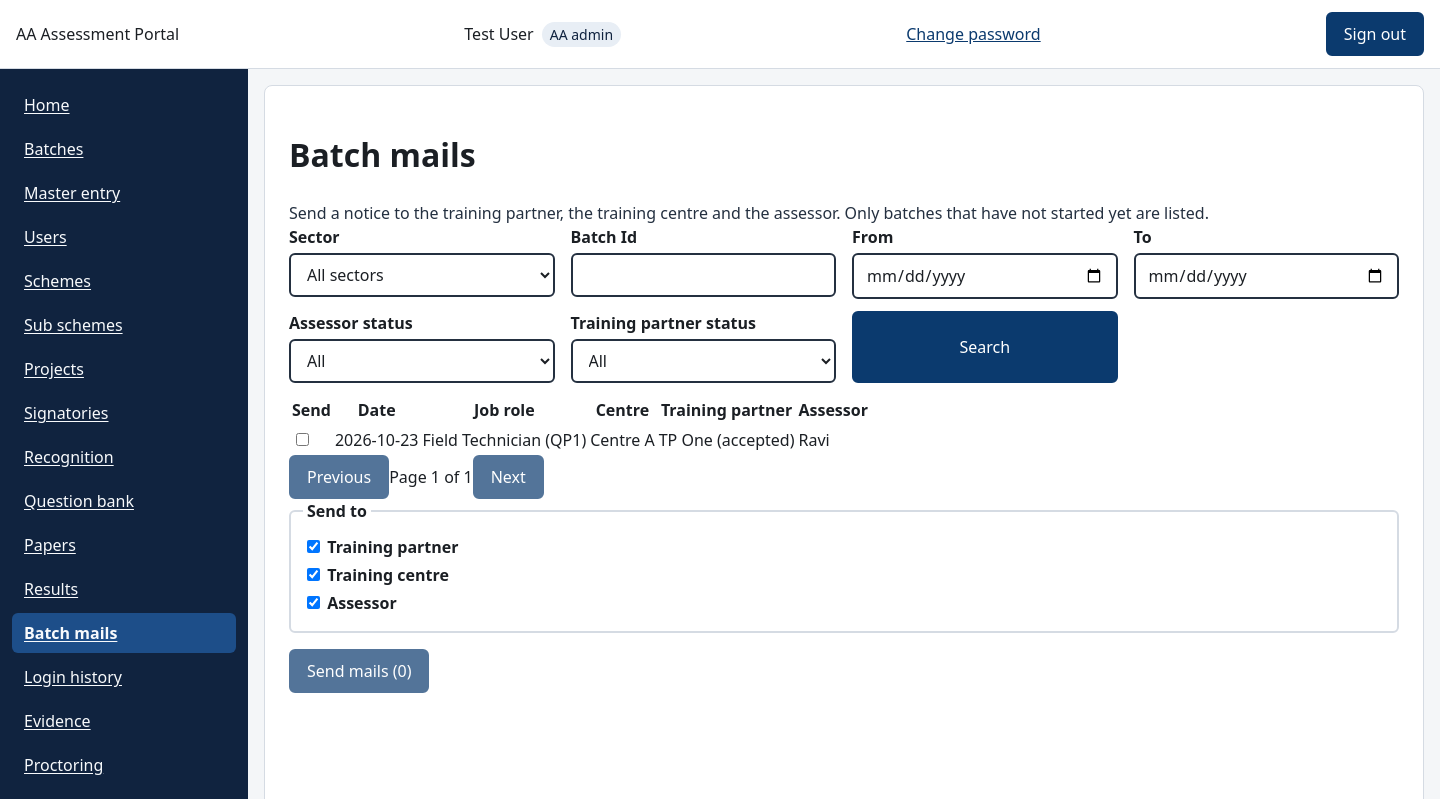
Scenario: searches upcoming batches and queues mails, listing what was skipped
Expected: the heading "Batch mails" is shown, [289,133,476,176]
Click the checkbox named "Select batch b1": [302, 439] box [296,433,309,446]
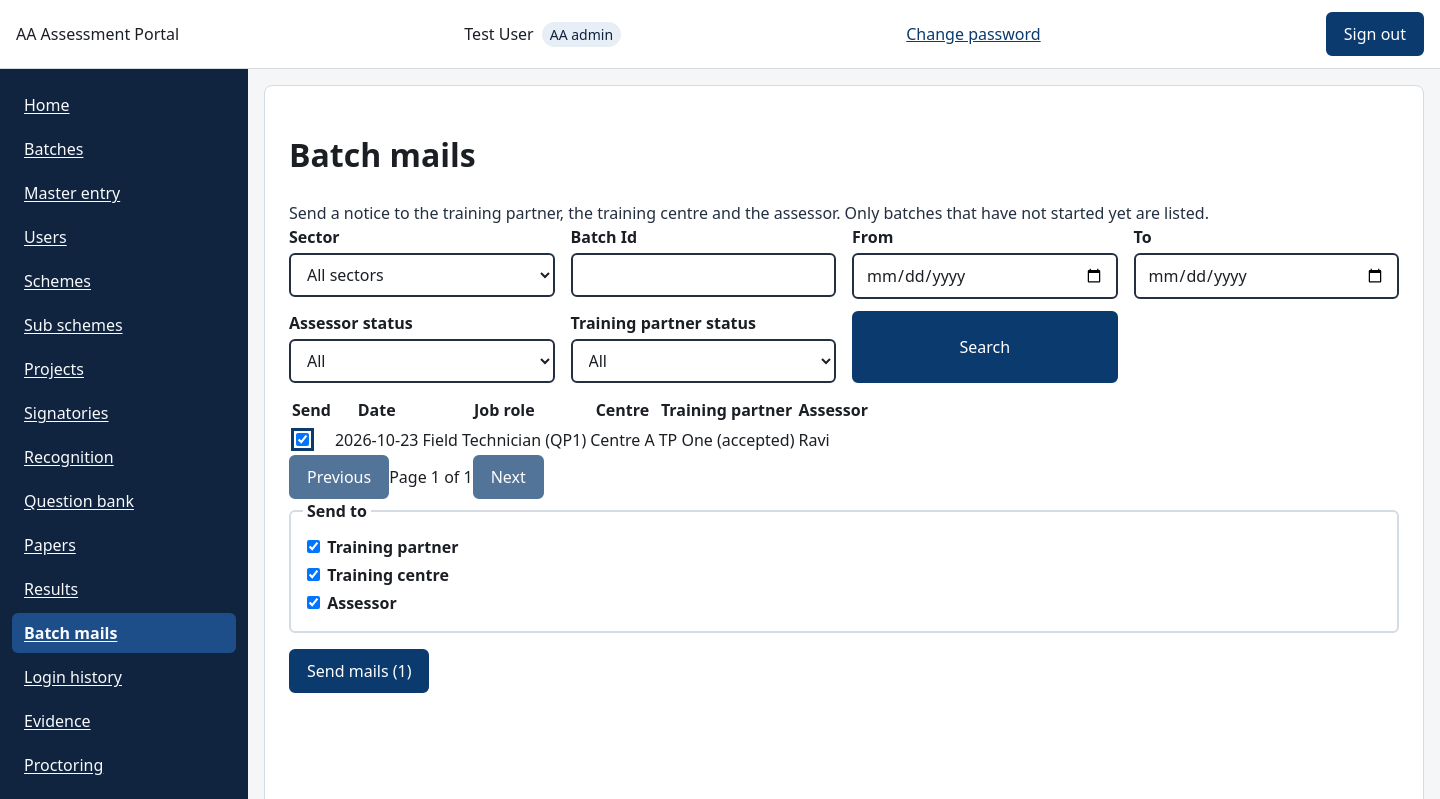
Click the button "Send mails (1)": [359, 671] box [289,649,430,693]
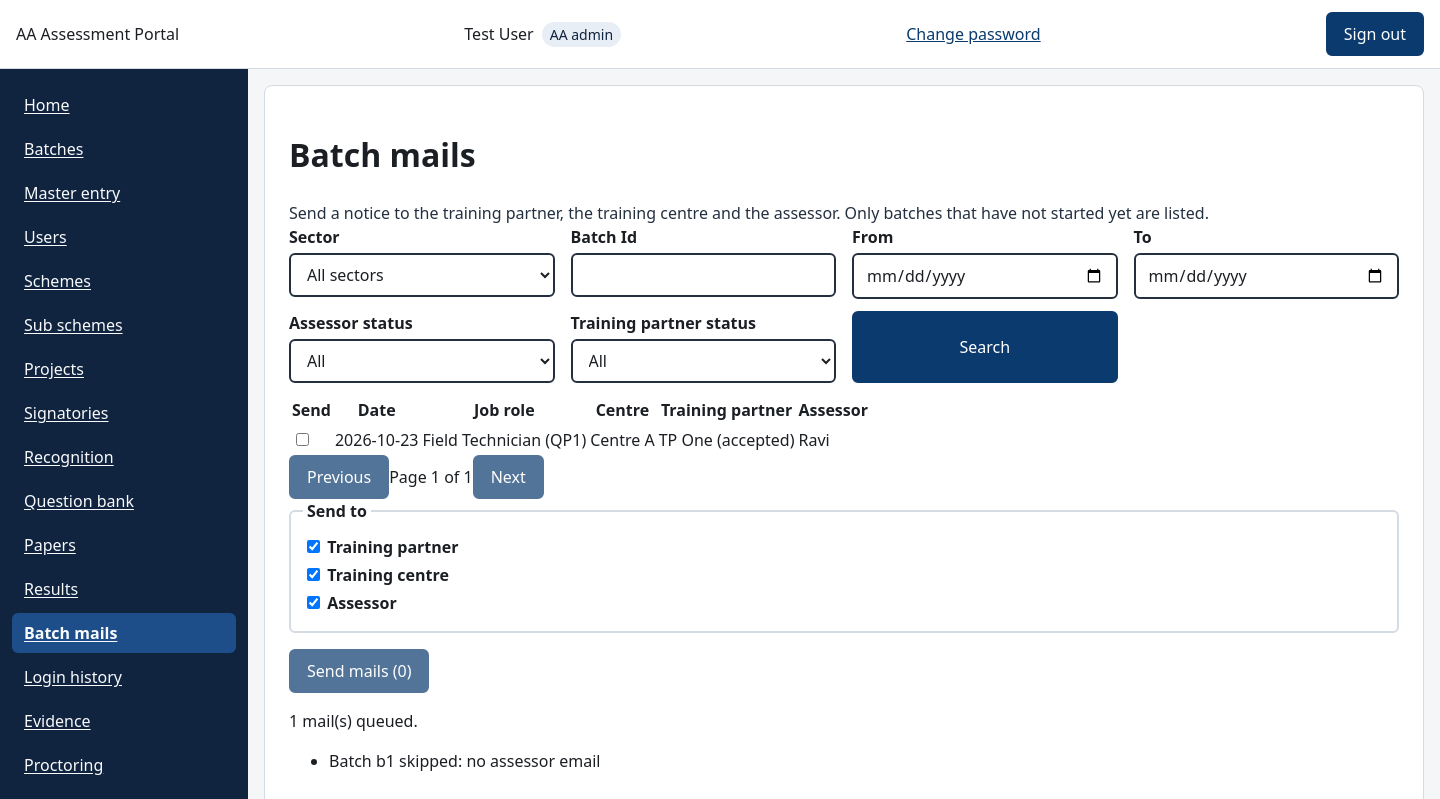
Result: the text "1 mail(s) queued." is shown at [289,710,418,732]
Result: the list item "Batch b1 skipped: no assessor email" is shown at [329,750,600,772]
